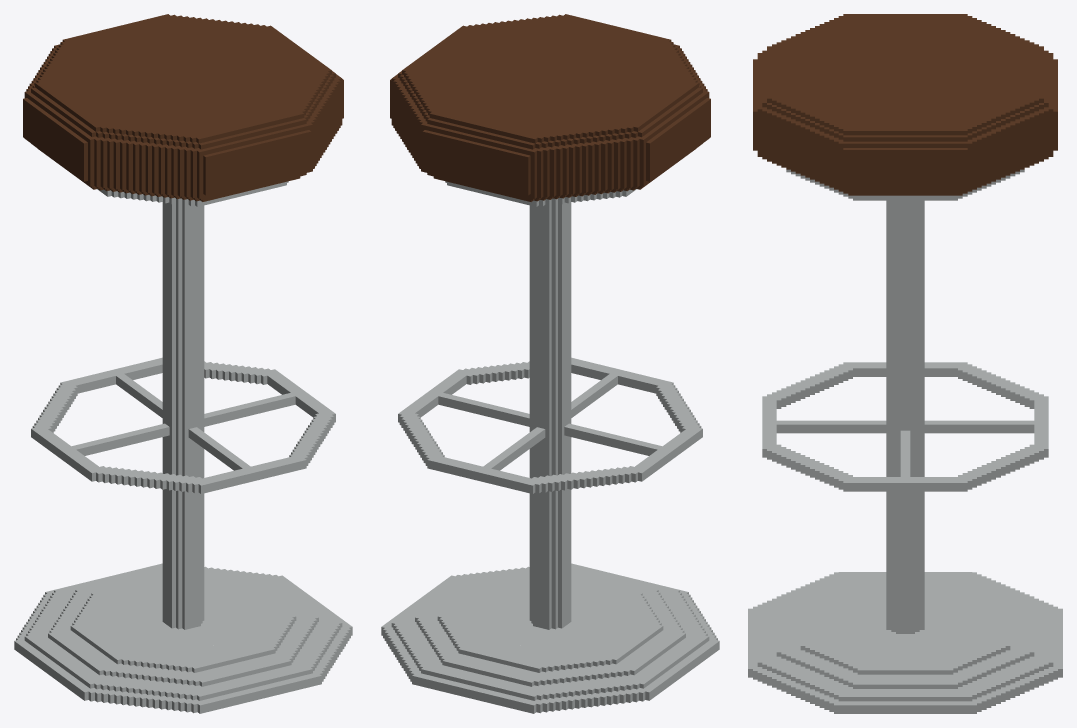
File: barstool.glb
3 views of the same model, side by side, from view 1: azimuth 30°, elevation 25°; view 2: azimuth 150°, elevation 25°; view 3: azimuth 270°, elevation 25° (orthographic).
Visible parts, largest first — view 1: barstool:compound; view 2: barstool:compound; view 3: barstool:compound.
Boxes of the visible parts, left/top/right/bottom form: barstool:compound: left=14, top=14, right=352, bottom=713; barstool:compound: left=381, top=14, right=719, bottom=713; barstool:compound: left=748, top=14, right=1062, bottom=713.
Bounding box in the file's own units: 0.396 × 0.798 × 0.396.
